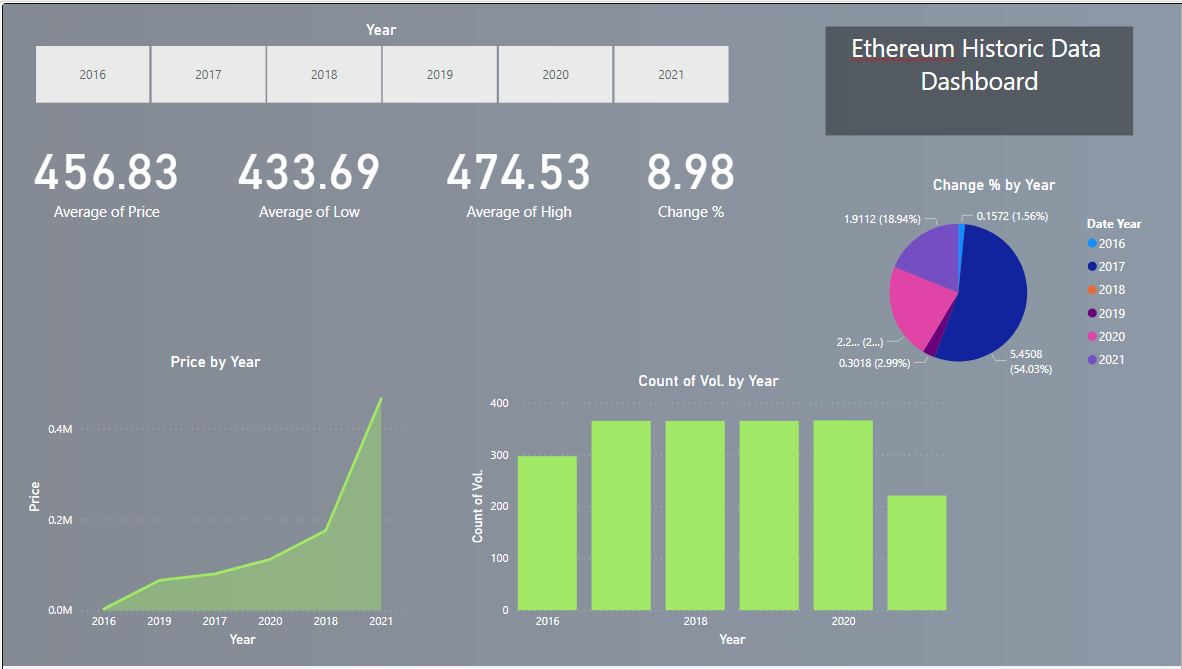

What the dashboard file says about the page in this screenshot:
{"tool":"powerbi","page":{"name":"Page 1","canvas":[1280,720],"ordinal":0},"visuals":[{"type":"slicer","title":"Year","fields":{"Values":["Ethereum Historical Data.Year"]},"box":[9.5,17.7,803.1,96.5],"z":0},{"type":"stackedAreaChart","fields":{"Y":["Sum(Ethereum Historical Data.Price)"],"Category":["Ethereum Historical Data.Year"]},"box":[21.7,379.1,418.5,324.8],"z":1000},{"type":"card","fields":{"Values":["Avg(Ethereum Historical Data.Price)"]},"box":[9.5,114.1,206.5,144],"z":2000},{"type":"card","fields":{"Values":["Avg(Ethereum Historical Data.Low)"]},"box":[216.1,114.1,233.7,144],"z":3000},{"type":"card","fields":{"Values":["Sum(Ethereum Historical Data.Change %)"]},"box":[672.6,114.1,150.8,144],"z":4000},{"type":"card","fields":{"Values":["Avg(Ethereum Historical Data.High)"]},"box":[449.8,114.1,222.8,144],"z":5000},{"type":"lineClusteredColumnComboChart","fields":{"Y":["CountNonNull(Ethereum Historical Data.Vol.)"],"Category":["Ethereum Historical Data.Date.Variation.Date Hierarchy.Year"]},"box":[502.8,399.5,528.6,304.4],"z":5001},{"type":"pieChart","fields":{"Y":["Sum(Ethereum Historical Data.Change %)"],"Category":["Ethereum Historical Data.Date.Variation.Date Hierarchy.Year"]},"box":[894.1,186.2,366.9,236.4],"z":5002},{"type":"textbox","box":[894.1,24.5,334.3,118.2],"z":5003}]}

Visuals, with their boxes in screenshot pixels (x1, y1, x2, y2), scaled from the page's 1280x720 canvas onto the 1182x669 screenshot:
"Year" slicer: (9, 16, 750, 106)
stackedAreaChart - Sum(Ethereum Historical Data.Price) x Ethereum Historical Data.Year: (20, 352, 406, 654)
card - Avg(Ethereum Historical Data.Price): (9, 106, 199, 240)
card - Avg(Ethereum Historical Data.Low): (200, 106, 415, 240)
card - Sum(Ethereum Historical Data.Change %): (621, 106, 760, 240)
card - Avg(Ethereum Historical Data.High): (415, 106, 621, 240)
lineClusteredColumnComboChart - CountNonNull(Ethereum Historical Data.Vol.) x Ethereum Historical Data.Date.Variation.Date Hierarchy.Year: (464, 371, 952, 654)
pieChart - Sum(Ethereum Historical Data.Change %) x Ethereum Historical Data.Date.Variation.Date Hierarchy.Year: (826, 173, 1164, 393)
textbox: (826, 23, 1134, 133)
